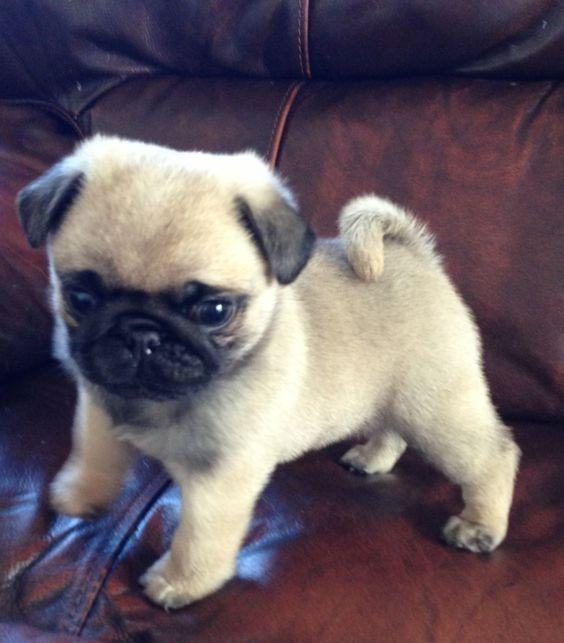puppy-dog: (15, 134, 519, 611)
